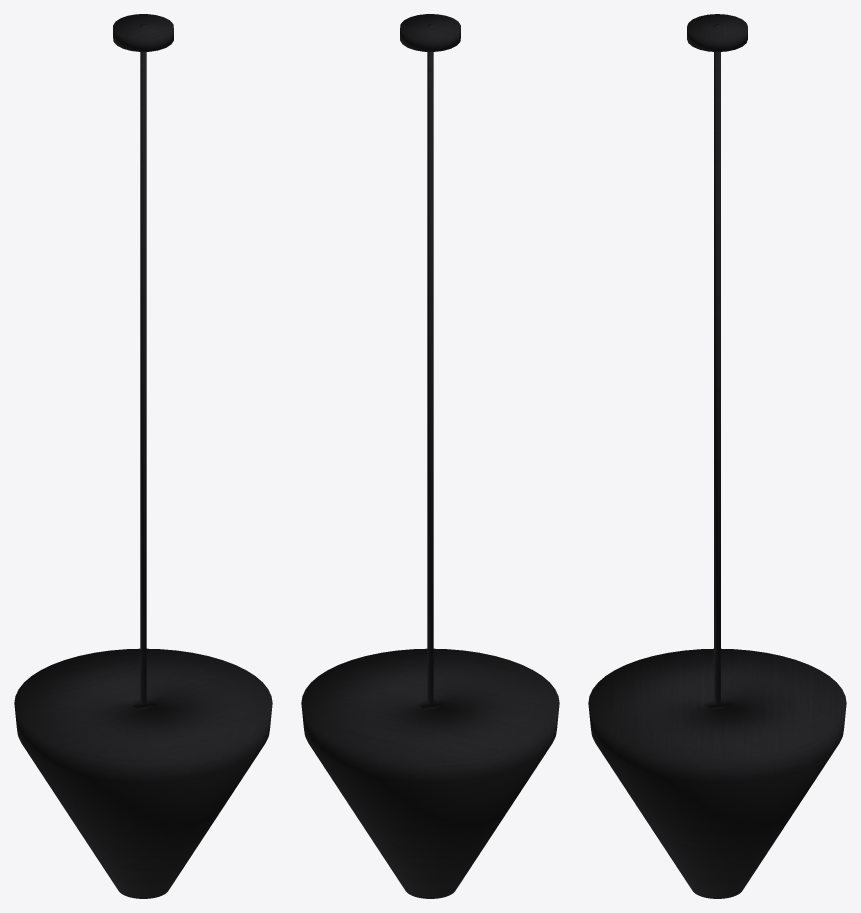
Rendered from dining_pendant.glb.
The picture shows the model from 3 angles, left to right: view 1: azimuth 30°, elevation 25°; view 2: azimuth 150°, elevation 25°; view 3: azimuth 270°, elevation 25°; orthographic projection.
Parts seen in each view (by area): view 1: dining_pendant; view 2: dining_pendant; view 3: dining_pendant.
Boxes of the visible parts, x1,y1,x2,y2 form: dining_pendant: (14, 14, 272, 898); dining_pendant: (301, 14, 559, 898); dining_pendant: (588, 14, 846, 898).
Size of the model in its own units: 0.38 by 1.4 by 0.38.
2 materials, 1 textured.
